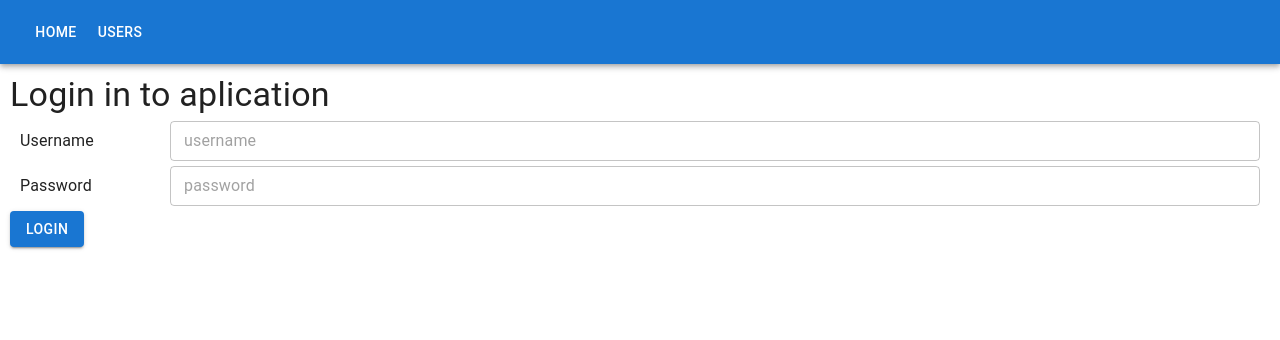
Scenario: Blog app › Login › Login unsuccessful
Type "Alberto" into the field with id "username" at (715, 141), box top-left (170, 121), bottom-right (1260, 161)
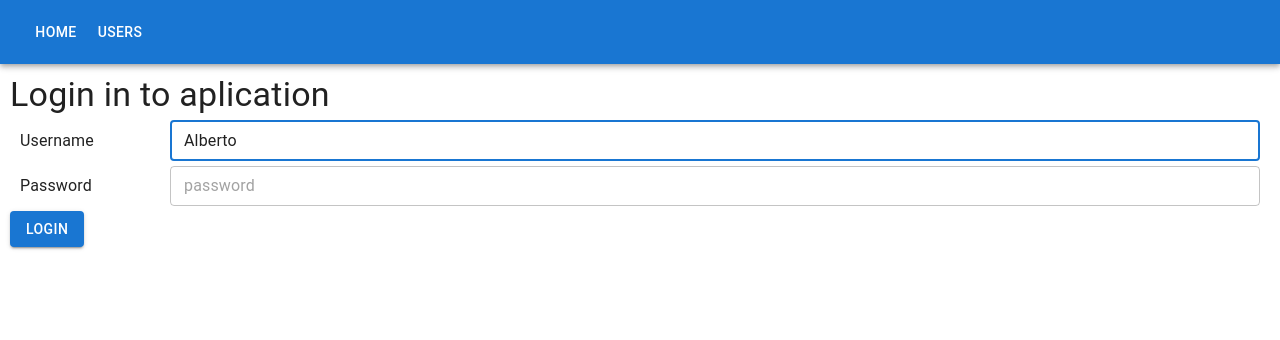
Type "wrong" into the password field with placeholder "password" at (715, 186), box top-left (170, 166), bottom-right (1260, 206)
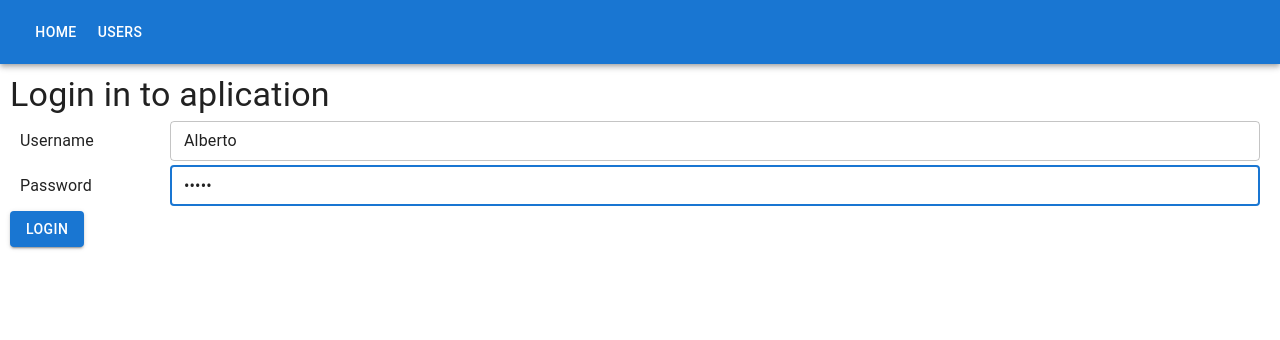
Click the button with id "loginButton" at (47, 230), box top-left (10, 211), bottom-right (84, 248)
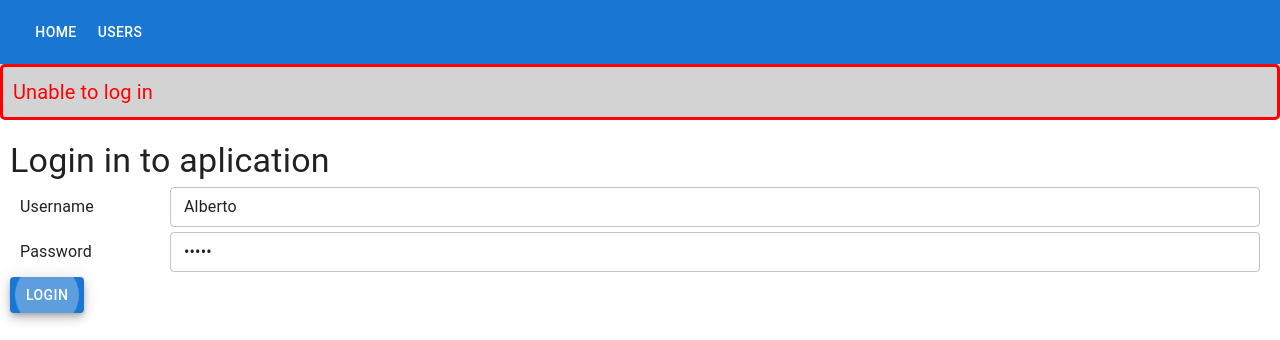
Now the text "Unable to log in" is shown, box top-left (0, 64), bottom-right (1279, 120)
